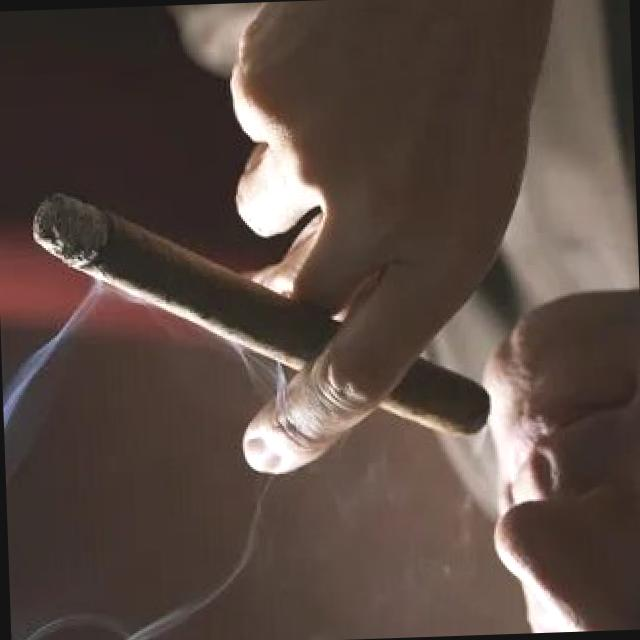cigarette: (31, 174, 492, 454)
